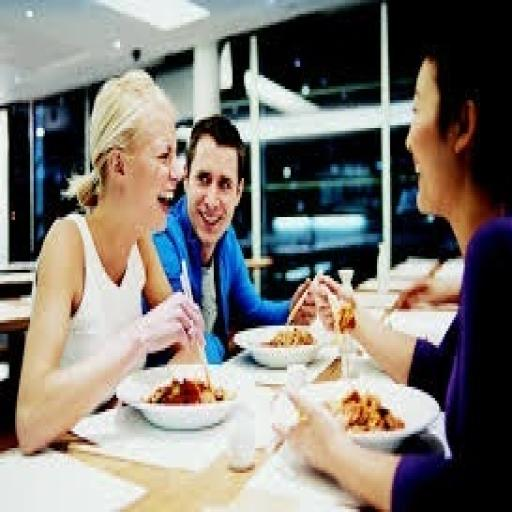eating: (13, 66, 208, 454)
